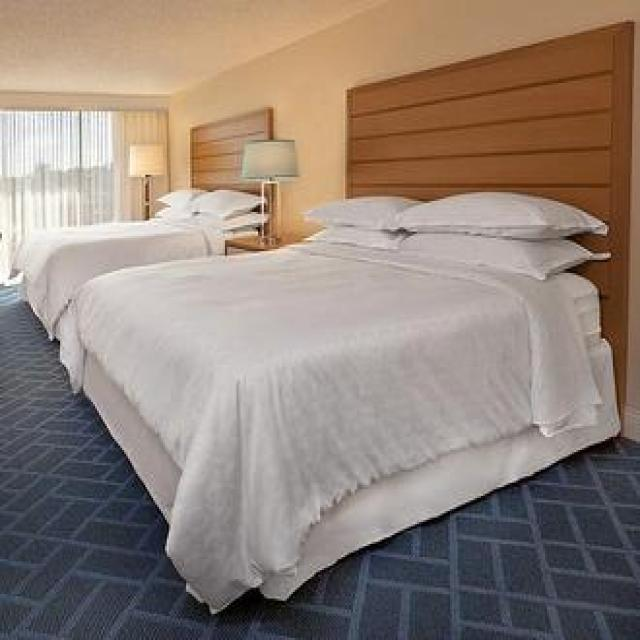bed: (75, 18, 632, 620)
